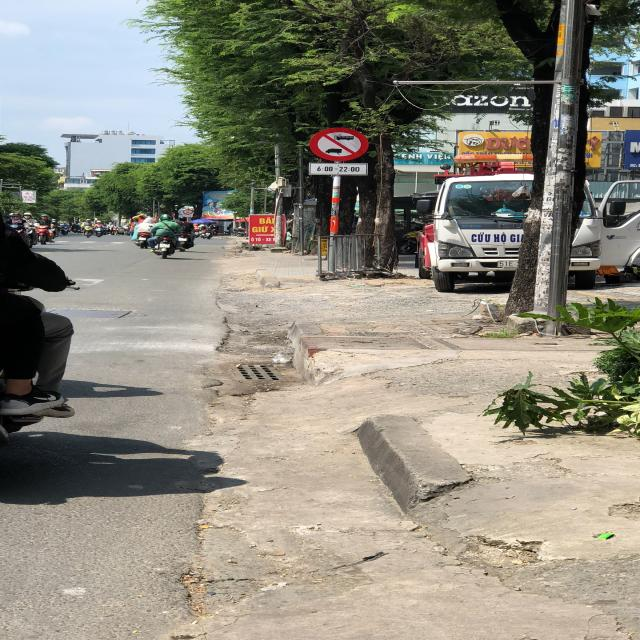Bien bao cam xe oto khach va xe oto tai: (303, 124, 371, 162)
